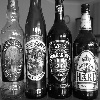beer: (70, 2, 100, 100)
